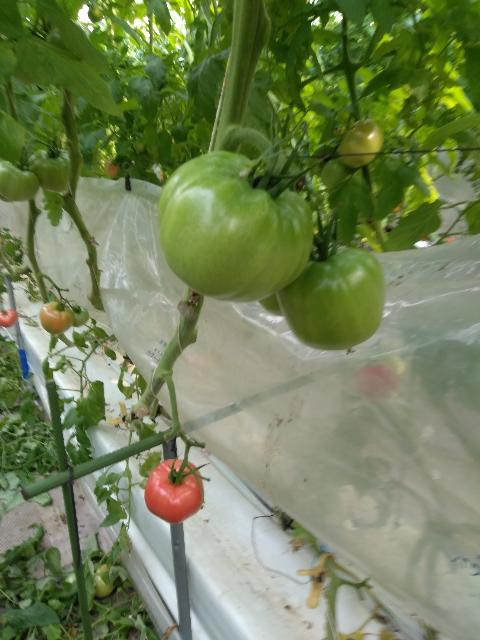b_fully_ripened: (144, 458, 204, 524), (0, 308, 16, 327)
b_green: (157, 150, 314, 303), (274, 248, 385, 351), (27, 148, 80, 192), (0, 158, 39, 201), (321, 158, 355, 188), (70, 305, 89, 327)
b_half_ripened: (337, 119, 383, 169), (39, 301, 74, 334)
